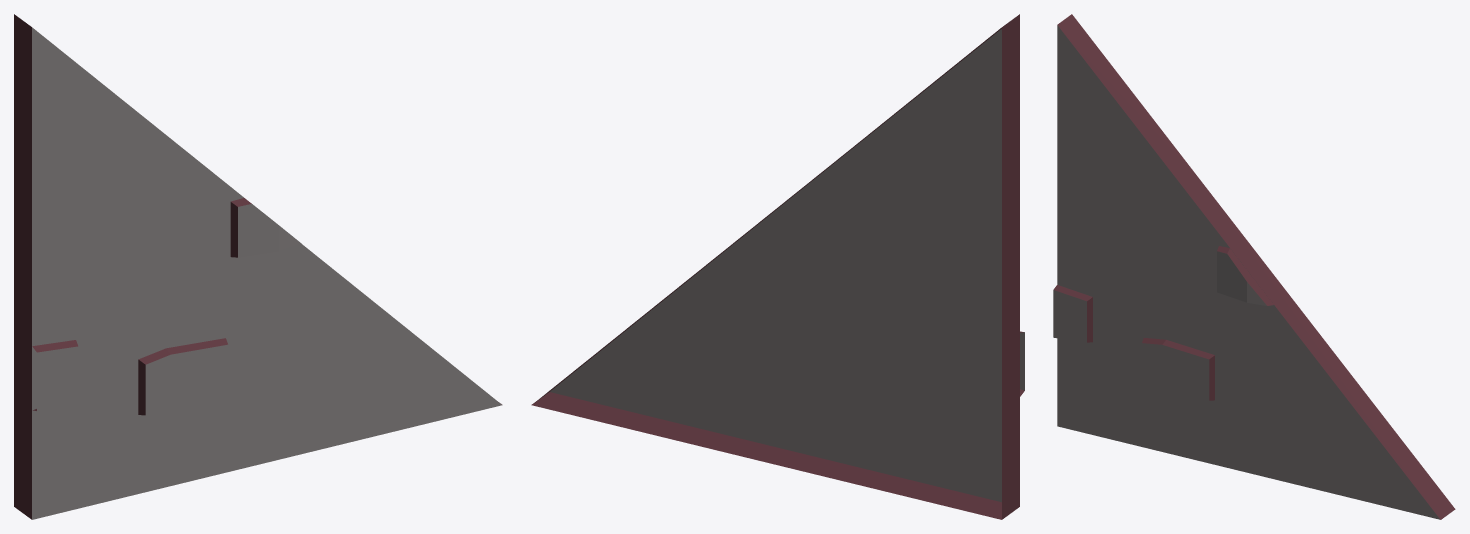
Rendered from wall-stone-end-r-3x3m-c.fbx.
3 views of the same model, side by side, from view 1: azimuth 30°, elevation 25°; view 2: azimuth 150°, elevation 25°; view 3: azimuth 330°, elevation 25° (orthographic). The views are drawn at different scales.
Parts seen in each view (by area): view 1: wall-stone-end-r-3x3m-c; view 2: wall-stone-end-r-3x3m-c; view 3: wall-stone-end-r-3x3m-c.
Boxes of the visible parts, x1,y1,x2,y2 form: wall-stone-end-r-3x3m-c: [14, 14, 502, 519]; wall-stone-end-r-3x3m-c: [531, 14, 1024, 519]; wall-stone-end-r-3x3m-c: [1053, 14, 1455, 519].
Bounding box in the file's own units: 3 × 3 × 0.2788.
